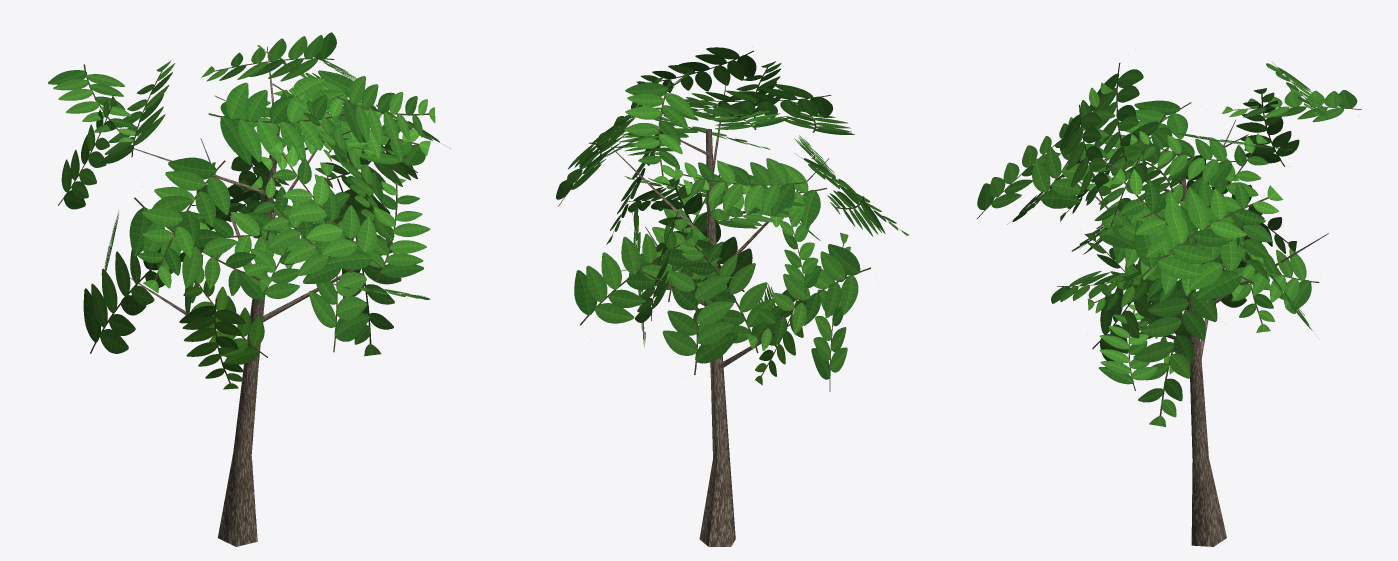
File: media_b_lo.glb
The picture shows the model from 3 angles, left to right: view 1: azimuth 30°, elevation 25°; view 2: azimuth 150°, elevation 25°; view 3: azimuth 270°, elevation 25°; orthographic projection. The views are drawn at different scales.
Visible parts, largest first — view 1: media_b_lo; view 2: media_b_lo; view 3: media_b_lo.
Boxes of the visible parts, <box> form: media_b_lo: <box>48,32,450,546</box>; media_b_lo: <box>556,47,908,546</box>; media_b_lo: <box>977,62,1361,546</box>.
Size of the model in its own units: 8.19 by 10.2 by 8.06.
2 materials, 2 textured.
